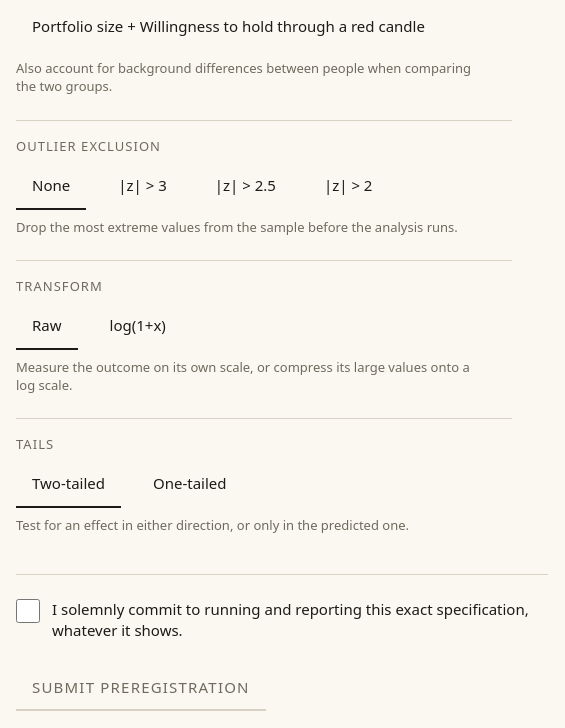
Prereg screen — the preregistration form › the submit CTA is disabled until the checkbox is ticked
The width and height of the screenshot is (565, 728).
(page scrolled)
Expected: the button "Submit preregistration" is disabled, [16, 665, 266, 711]
Click the checkbox.
click(28, 611)  # box [16, 599, 40, 623]
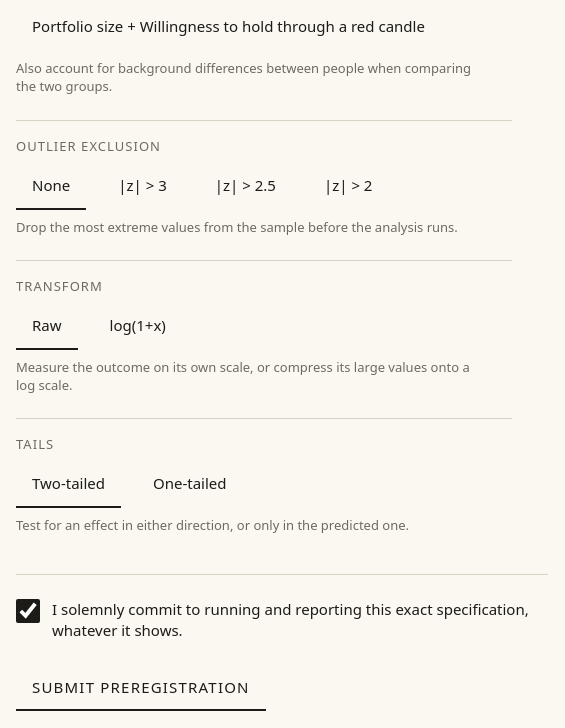
Expected: the button "Submit preregistration" is enabled, [16, 665, 266, 711]
